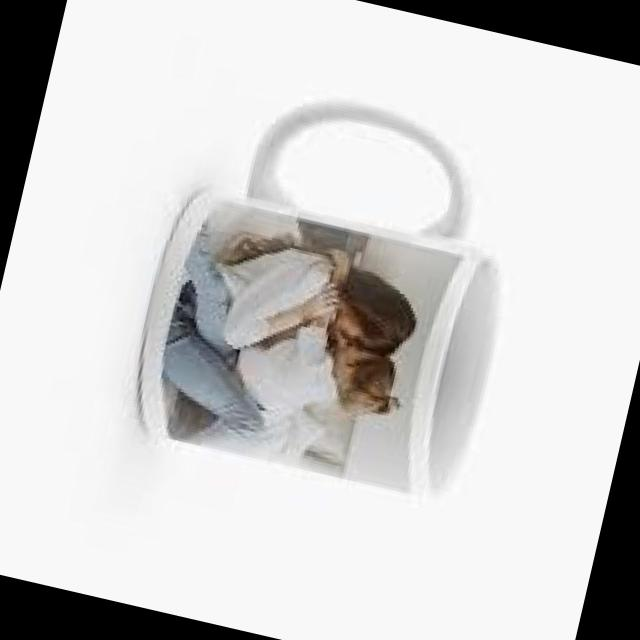Coffee Mug: (120, 66, 540, 511)
